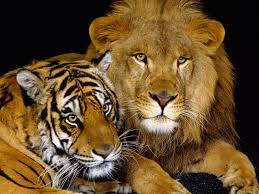lion: (92, 1, 259, 194)
tiger: (1, 50, 125, 194)
